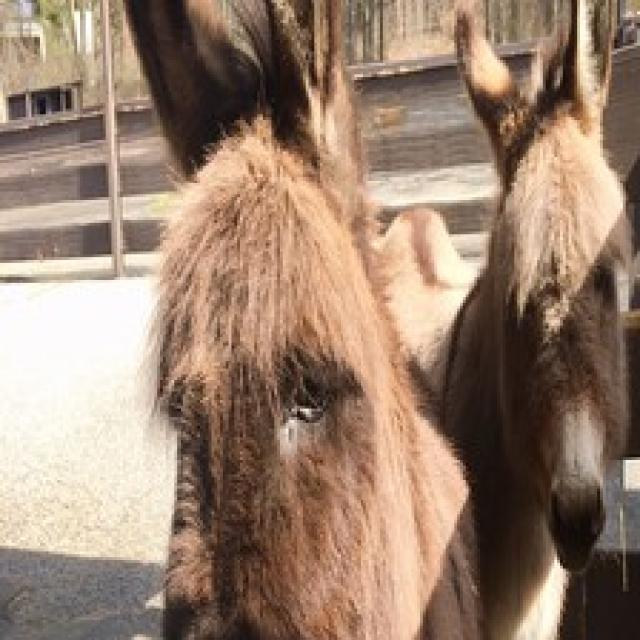Donkey: (114, 0, 637, 637), (434, 0, 637, 637)
